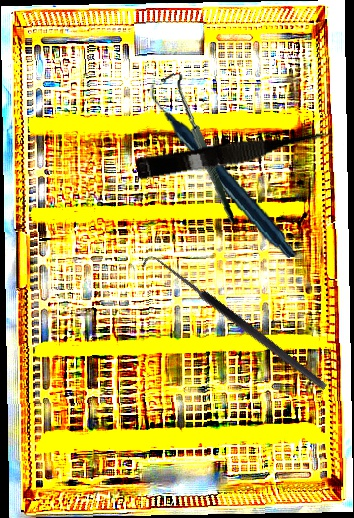Handpiece: (148, 72, 298, 269)
Hook Surgical: (139, 249, 330, 400), (147, 72, 250, 224)
Micro Scissor: (135, 124, 334, 185)
